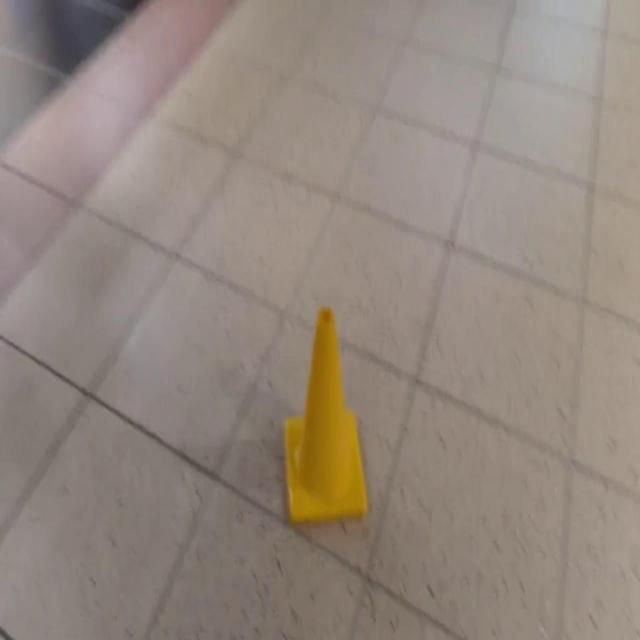frc_cone: (283, 302, 371, 524)
